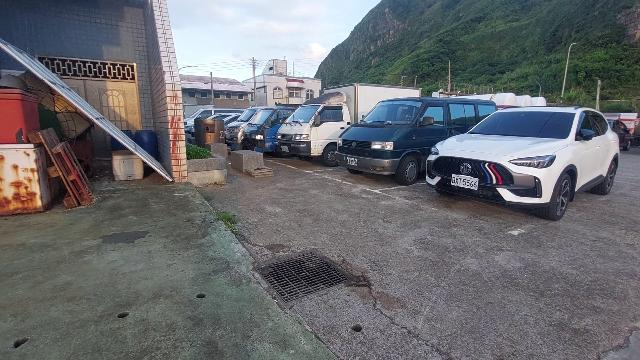pollute: (2, 69, 98, 218), (119, 129, 158, 160), (109, 150, 145, 182)
